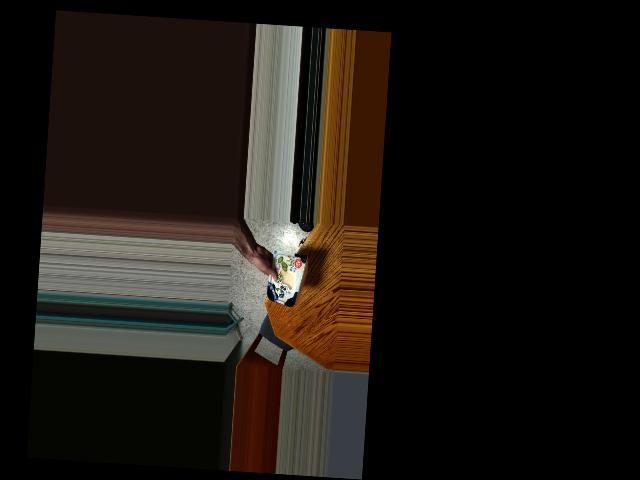cheese: (261, 259, 306, 301)
